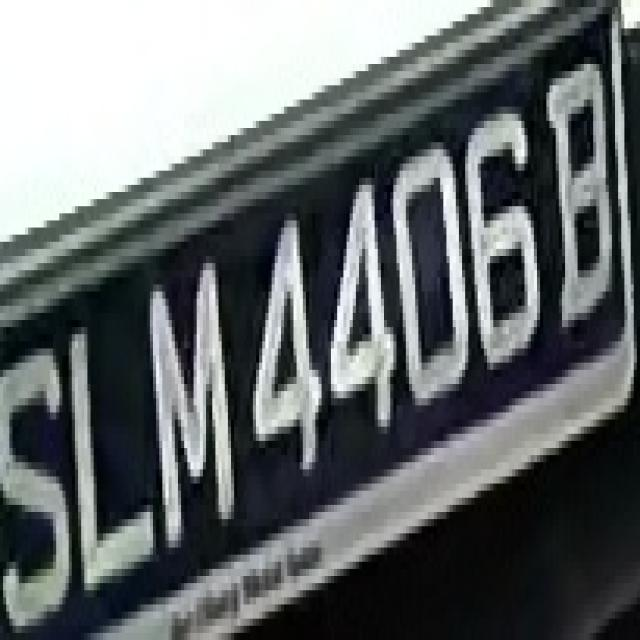0: (387, 128, 472, 420)
4: (296, 135, 396, 434), (234, 199, 325, 484)
6: (465, 107, 543, 391)
B: (537, 64, 621, 334)
L: (66, 298, 156, 612)
M: (137, 270, 240, 555)
S: (6, 327, 69, 640)
